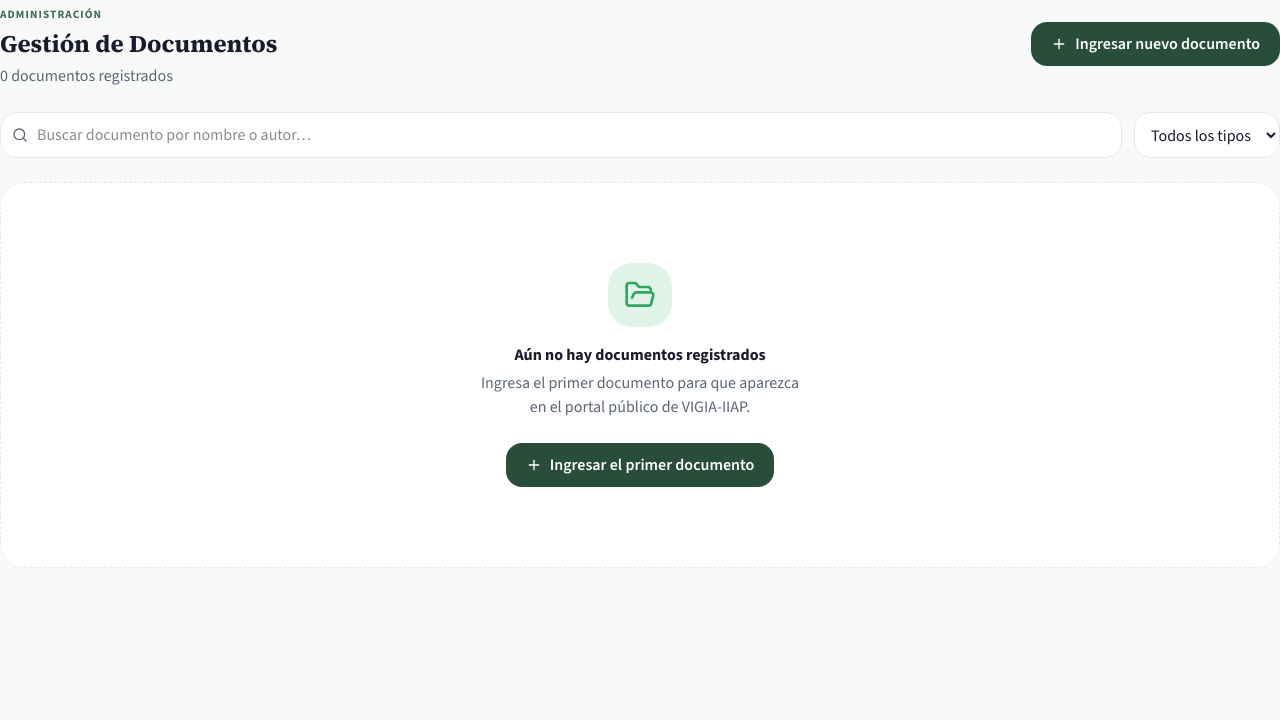
Scenario: GestionDocumentos — categoría › escribir un nombre que no existe no la crea ni la asigna, solo filtra
Click the button "Ingresar nuevo documento": click(1156, 44) [1031, 22, 1279, 66]
(page scrolled)
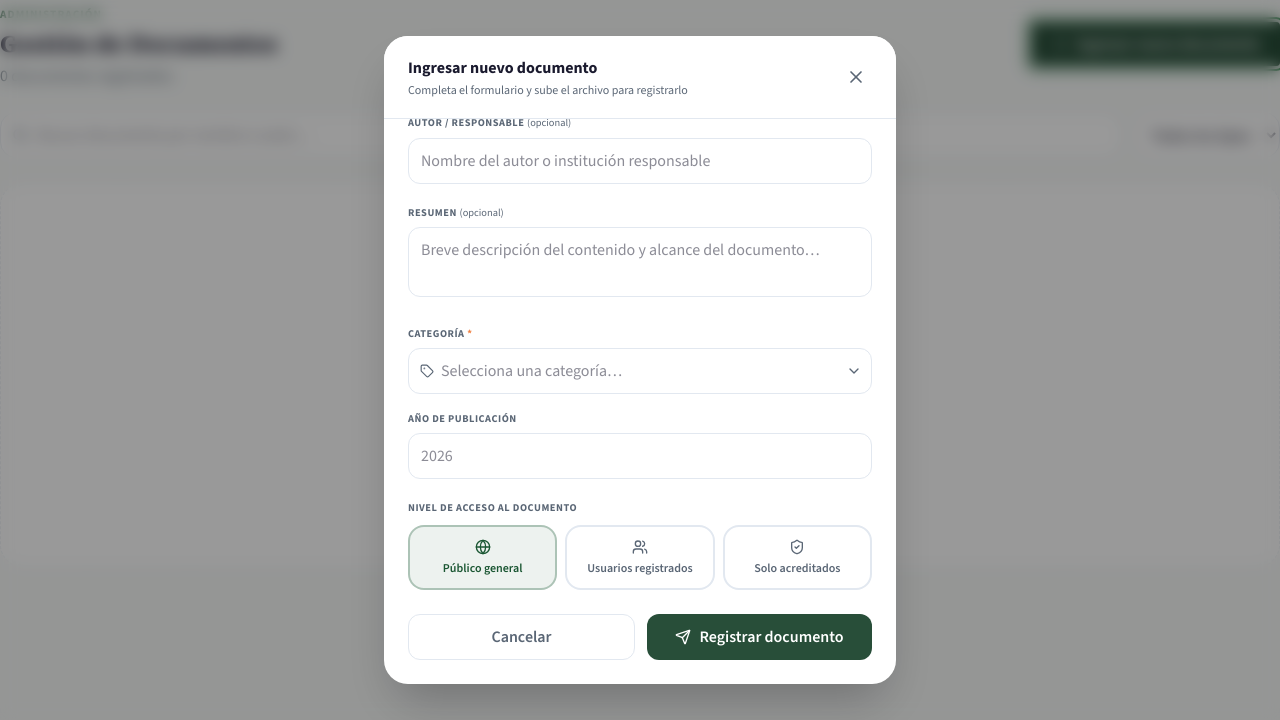
In the dropdown with placeholder "Selecciona una categoría…": (640, 371) [408, 348, 872, 394], type "Sensores Remotos"
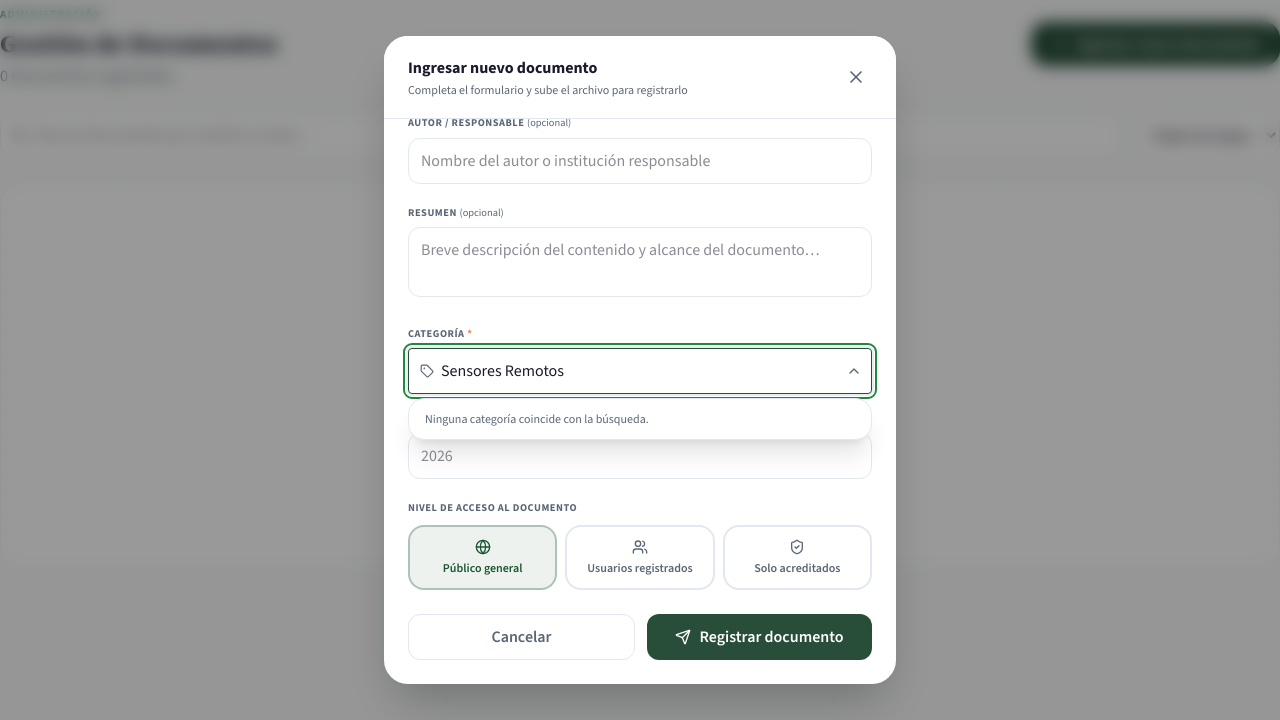
Check: the text "Ninguna categoría coincide con la búsqueda." is shown, box [425, 411, 649, 427]
